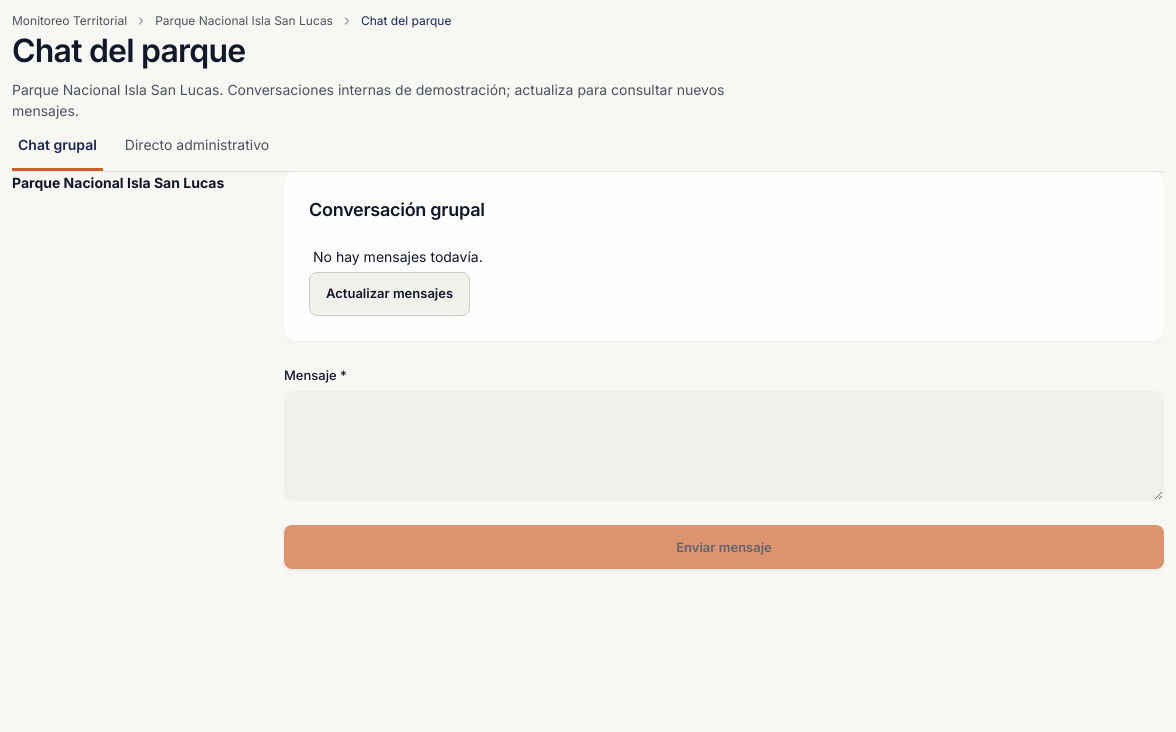
Test case: MASTER_ADMIN: flujos de administración › envía chat grupal y directo administrativo sin mezclar conversaciones
The width and height of the screenshot is (1176, 732).
Expected: the text "No hay mensajes todavía." is shown, [313,248,483,265]
Type "Mensaje grupal ficticio" into the text box labelled "Mensaje *".
click(724, 446); type("Mensaje grupal ficticio")  # box [284,391,1164,501]
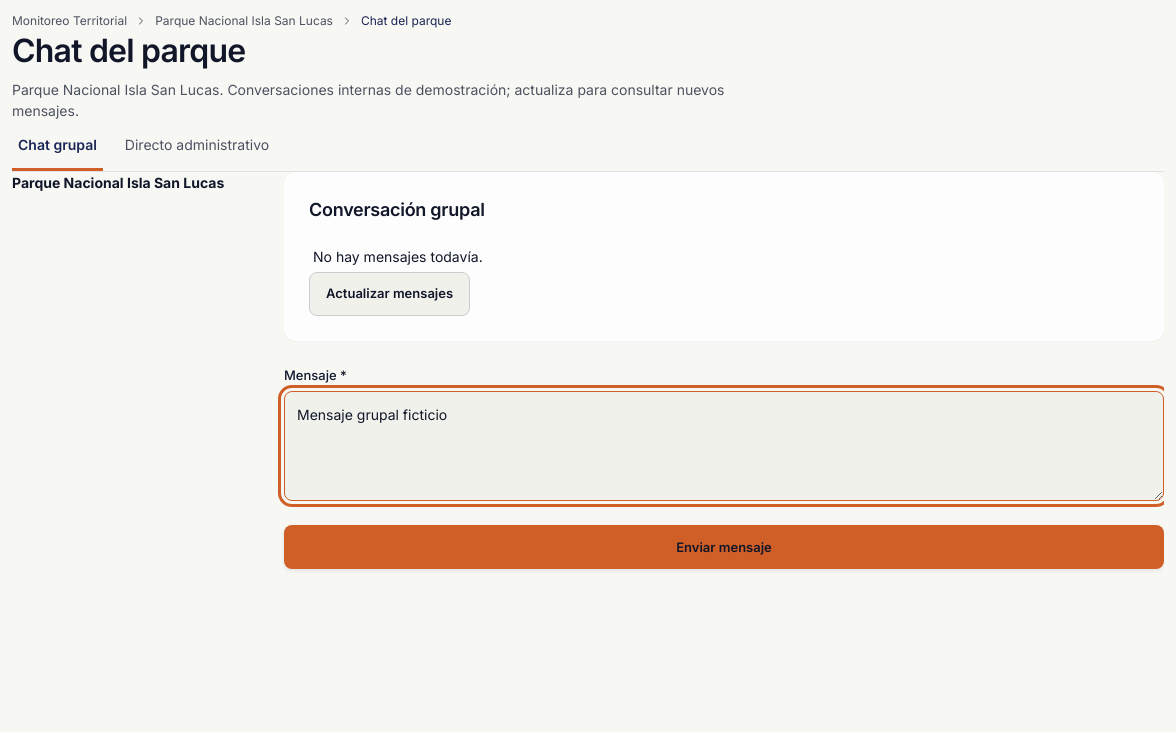
Click the button "Enviar mensaje".
click(724, 547)  # box [284,525,1164,569]
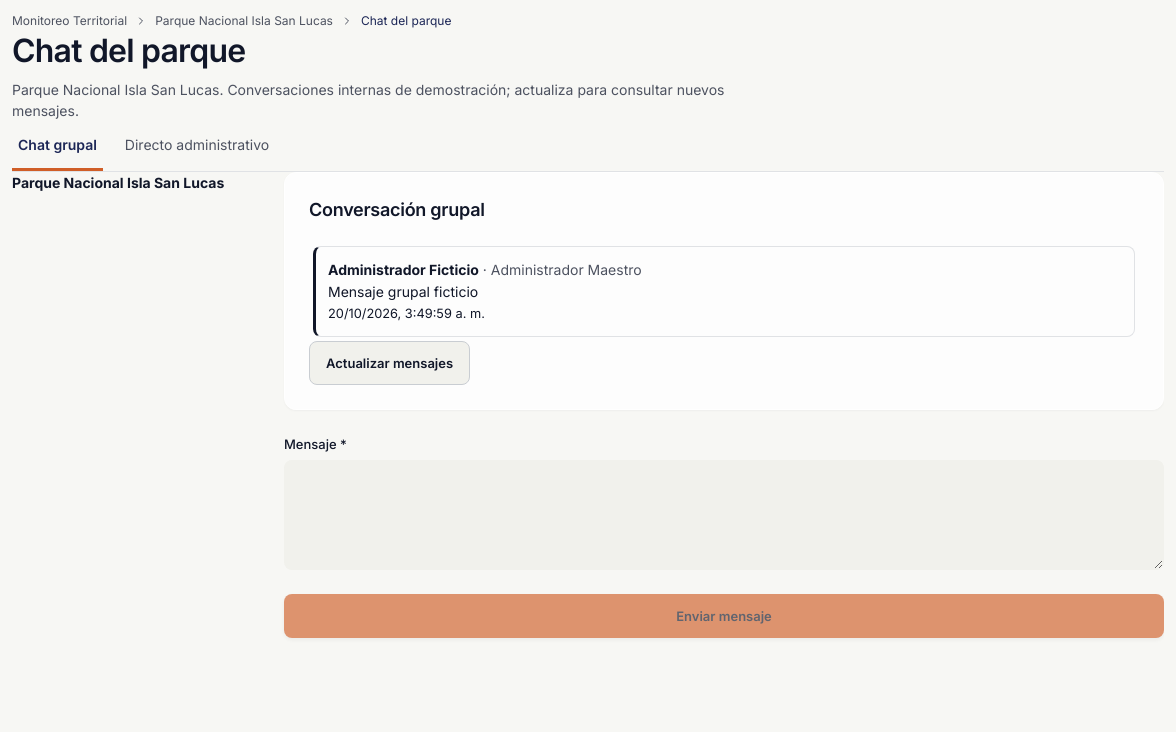
Expected: the text "Mensaje grupal ficticio" is shown, [328,282,478,300]
Click the tab "Directo administrativo".
click(197, 146)  # box [119,122,275,171]
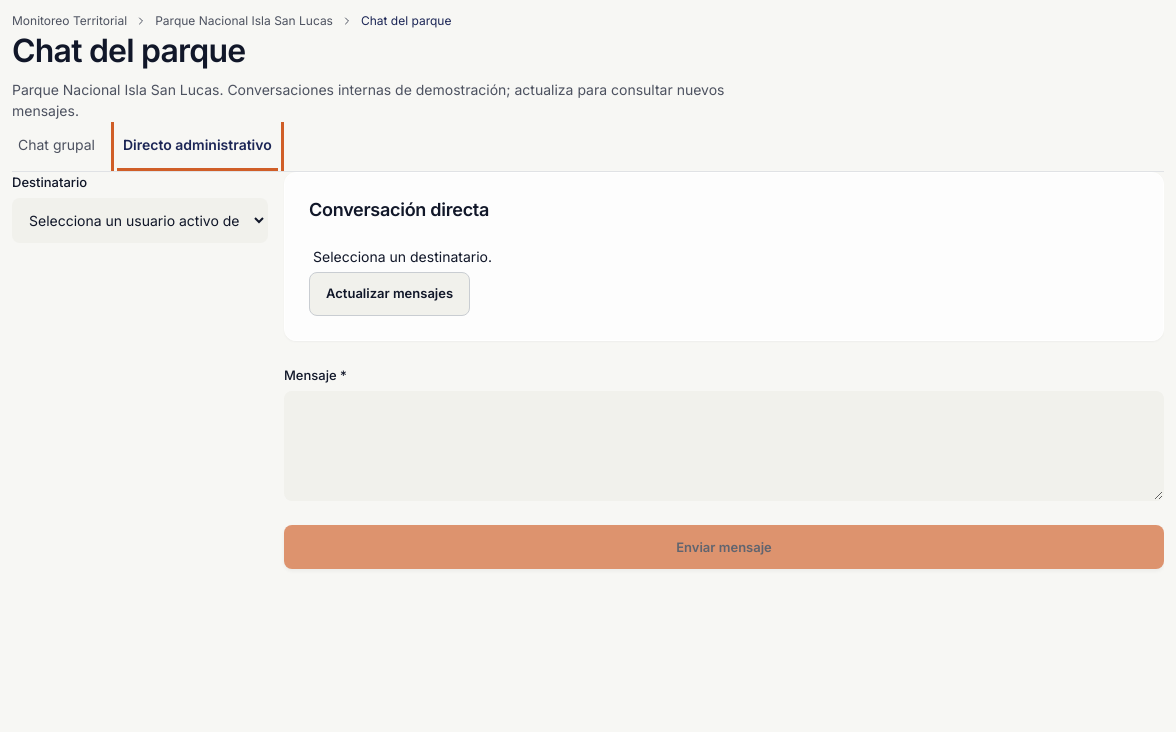
Select "Persona del Parque" in the dropdown labelled "Destinatario" at (140, 220), box [12,198,268,243]
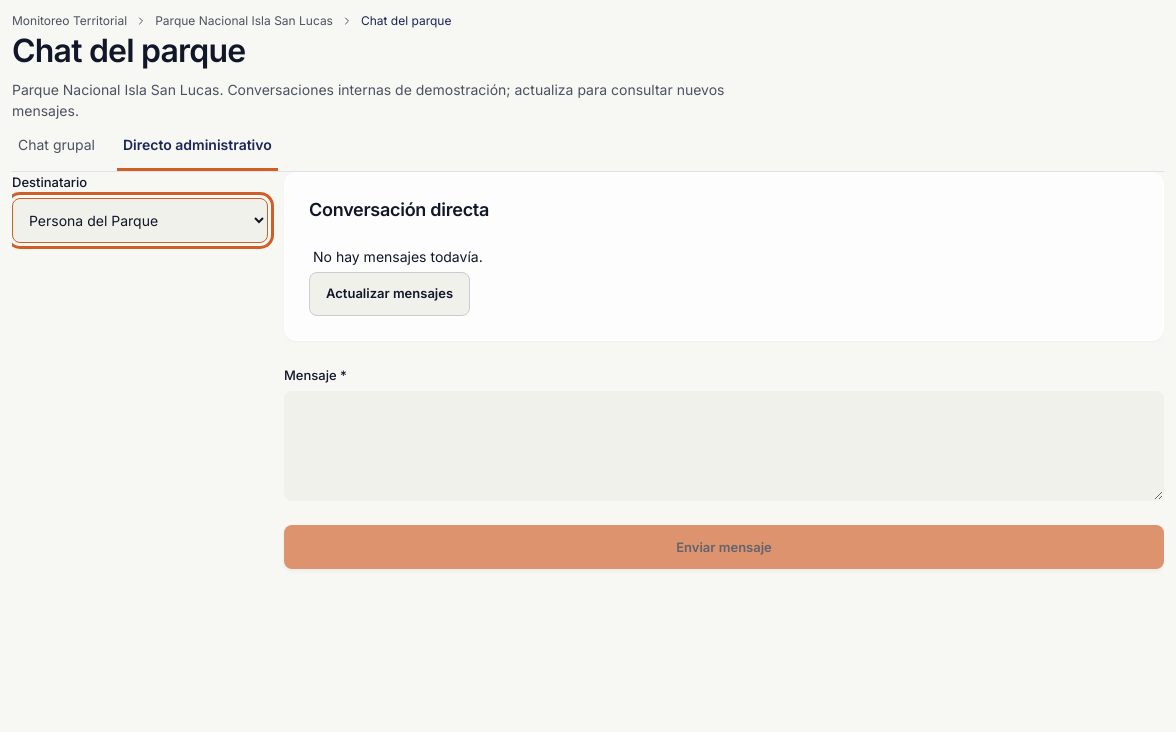
Expected: the text "Mensaje grupal ficticio" is not shown
Expected: the text "No hay mensajes todavía." is shown, [313,248,483,265]
Type "Mensaje directo ficticio" into the text box labelled "Mensaje *".
click(724, 446); type("Mensaje directo ficticio")  # box [284,391,1164,501]
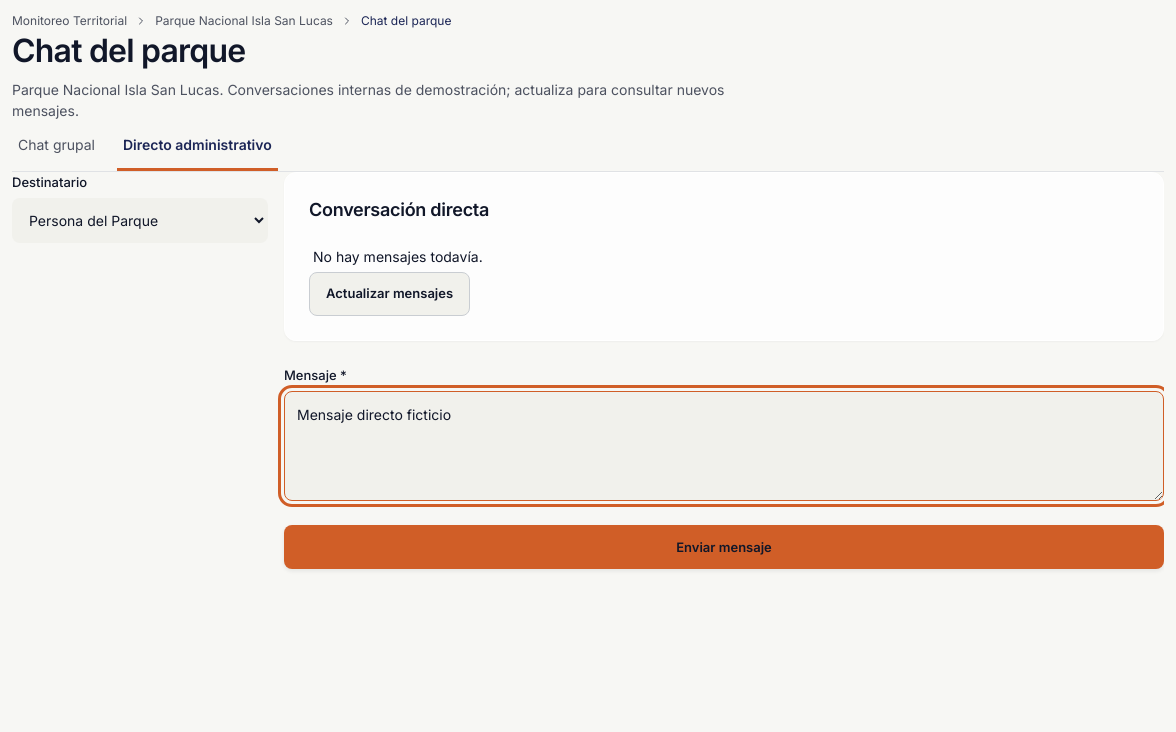
Click the button "Enviar mensaje".
click(724, 547)  # box [284,525,1164,569]
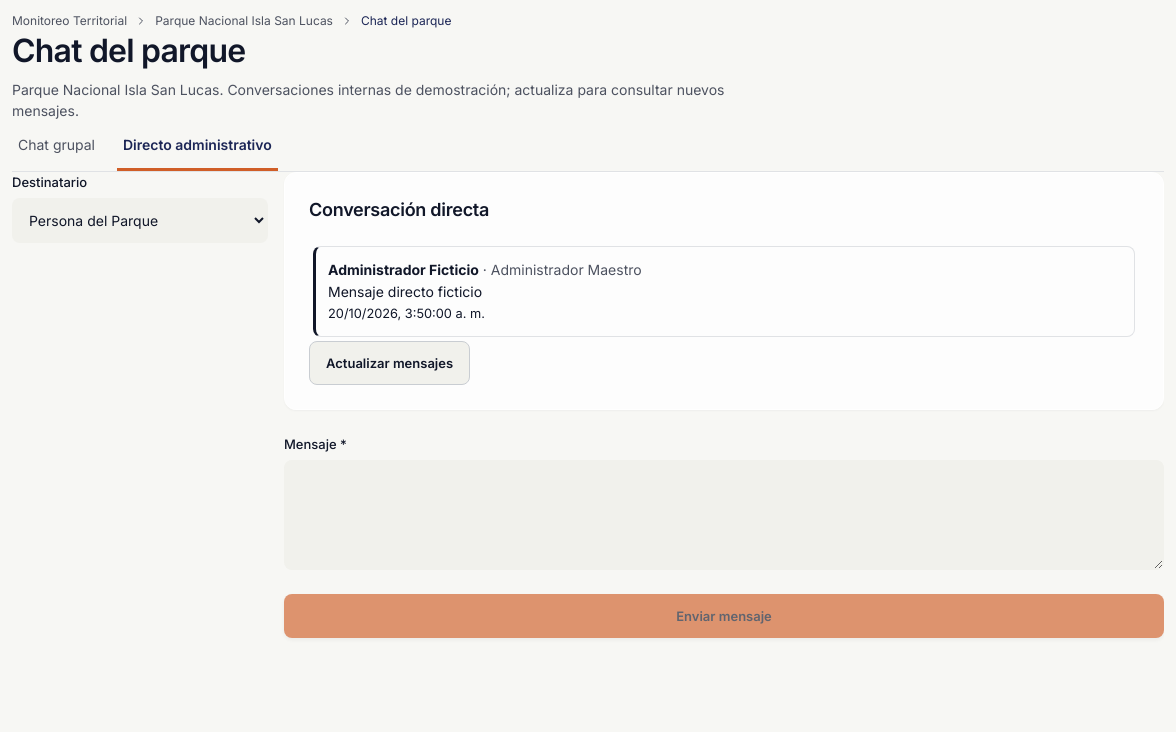
Expected: the text "Mensaje directo ficticio" is shown, [328,282,482,300]
